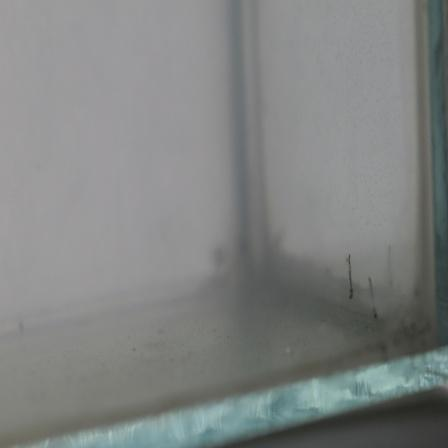Jentik-Nyamuk: (343, 252, 357, 300)
